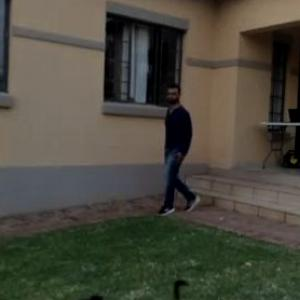follow: (156, 87, 186, 192)
